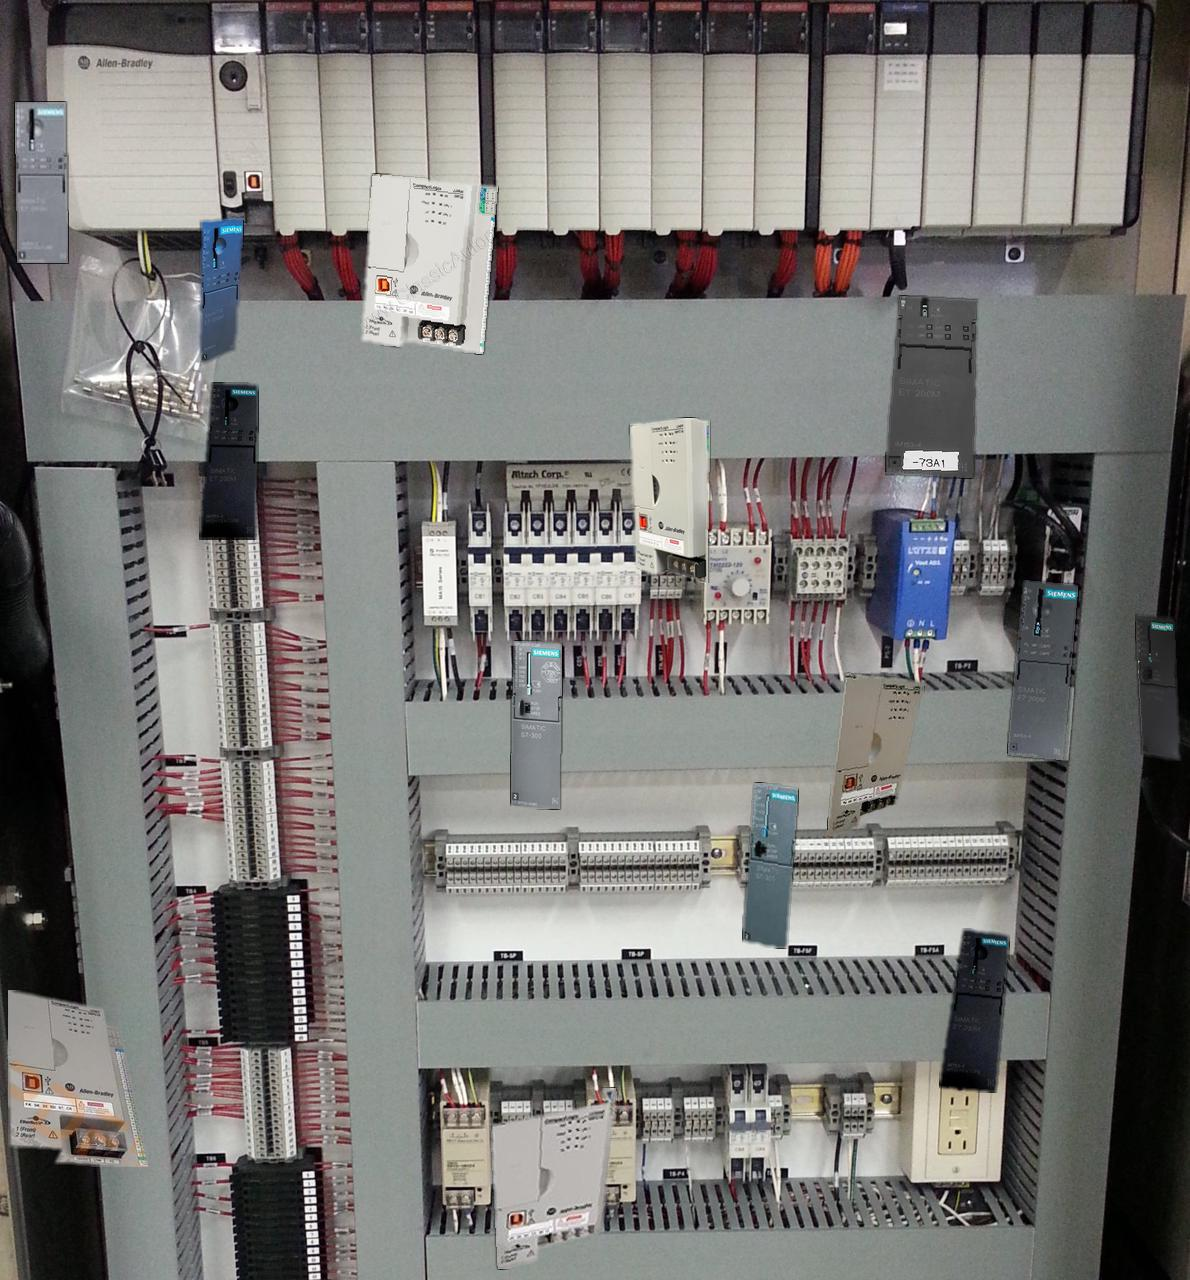AllenBradley: (8, 990, 147, 1166), (362, 174, 497, 353), (491, 1088, 616, 1268), (827, 674, 924, 835), (630, 418, 708, 582)
Siemens: (743, 783, 797, 947), (511, 641, 561, 808), (1135, 615, 1179, 760)
